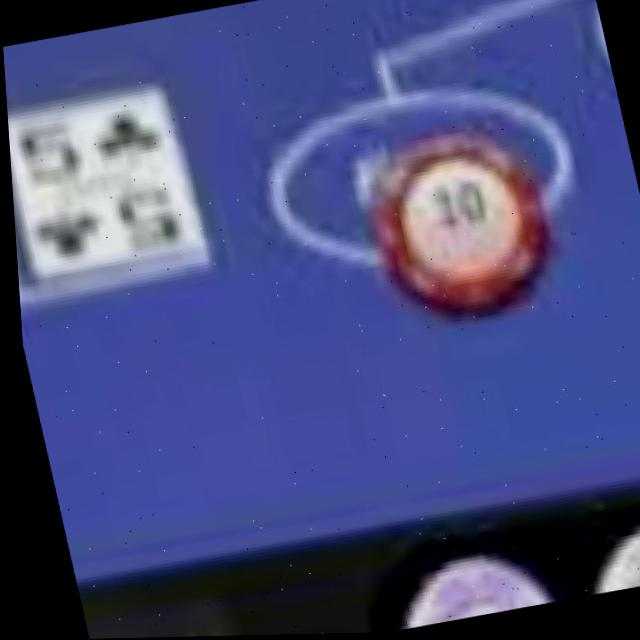Card-5: (6, 89, 202, 277)
